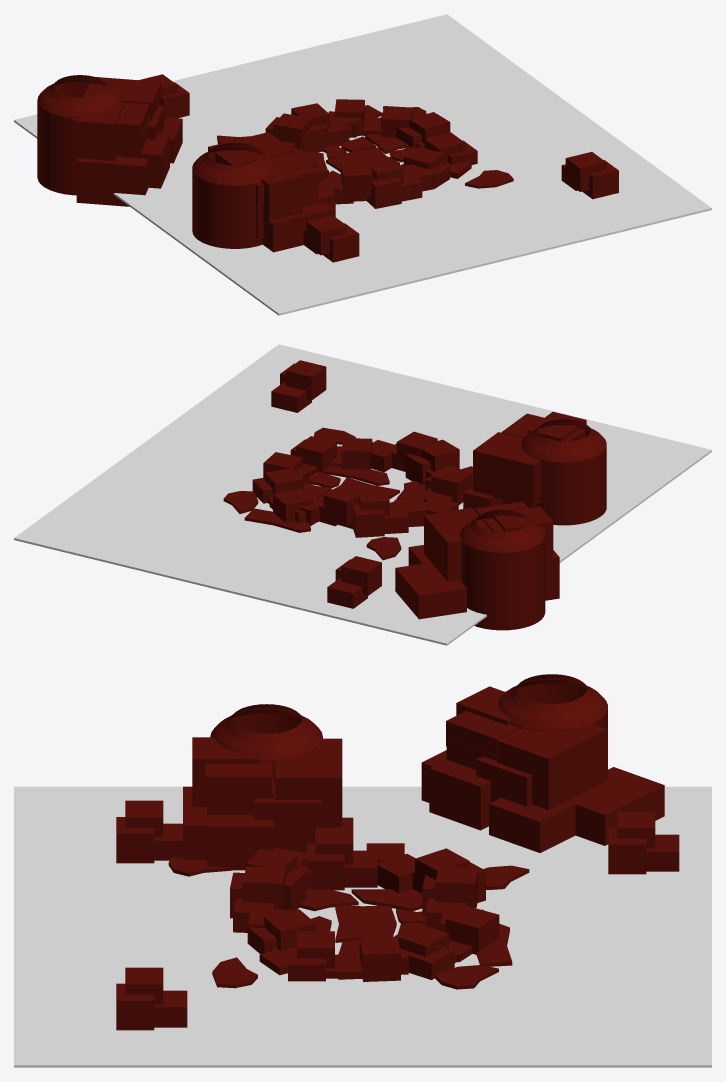
File: Mapa de lava.fbx
3 renders of one model, top to bottom at view 1: azimuth 30°, elevation 25°; view 2: azimuth 150°, elevation 25°; view 3: azimuth 270°, elevation 25°, orthographic. The views are drawn at different scales.
Parts seen in each view (by area): view 1: Cube, Cylinder, Cylinder.001, Cube.062, Cube.059, Cube.055, Cube.052, Cube.060, Cube.054, Cube.064, Cube.058, Cube.015 (+25 smaller); view 2: Cube, Cylinder.001, Cylinder, Cube.054, Cube.066, Cube.060, Cube.059, Cube.068, Cube.074, Cube.026, Cube.010, Cube.030 (+23 smaller); view 3: Cube, Cube.060, Cylinder.001, Cylinder, Cube.066, Cube.054, Cube.065, Cube.064, Cube.050, Cube.051, Cube.056, Cube.001 (+44 smaller).
Boxes of the visible parts, <box> form: Cube: <box>14,14,711,315</box>; Cylinder: <box>192,143,275,248</box>; Cylinder.001: <box>37,75,122,195</box>; Cube.062: <box>76,156,148,206</box>; Cube.059: <box>76,103,123,160</box>; Cube.055: <box>261,158,302,225</box>; Cube.052: <box>262,202,333,252</box>; Cube.060: <box>83,77,161,119</box>; Cube.054: <box>208,132,293,165</box>; Cube.064: <box>117,133,169,188</box>; Cube.058: <box>71,102,149,144</box>; Cube.015: <box>340,162,372,199</box>; Cube: <box>14,344,711,645</box>; Cylinder.001: <box>459,510,545,630</box>; Cylinder: <box>521,419,606,525</box>; Cube.054: <box>473,432,541,506</box>; Cube.066: <box>395,563,466,619</box>; Cube.060: <box>424,507,491,581</box>; Cube.059: <box>493,506,553,564</box>; Cube.068: <box>285,360,326,400</box>; Cube.074: <box>341,556,381,596</box>; Cube.026: <box>323,485,363,525</box>; Cube.010: <box>431,466,471,504</box>; Cube.030: <box>296,436,336,472</box>; Cube: <box>14,786,711,1067</box>; Cube.060: <box>497,724,607,809</box>; Cylinder.001: <box>498,674,607,731</box>; Cylinder: <box>210,704,322,783</box>; Cube.066: <box>567,767,664,845</box>; Cube.054: <box>275,738,342,827</box>; Cube.065: <box>489,789,596,852</box>; Cube.064: <box>429,760,490,830</box>; Cube.050: <box>207,815,273,870</box>; Cube.051: <box>254,783,321,853</box>; Cube.056: <box>205,761,272,801</box>; Cube.001: <box>335,905,396,942</box>.
Bounding box in the file's own units: 14209 × 2768 × 14031.
